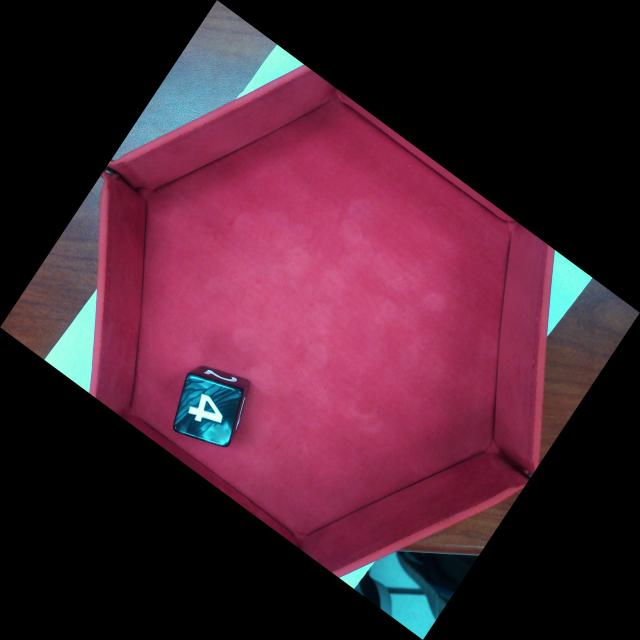dice: (174, 378, 240, 445)
